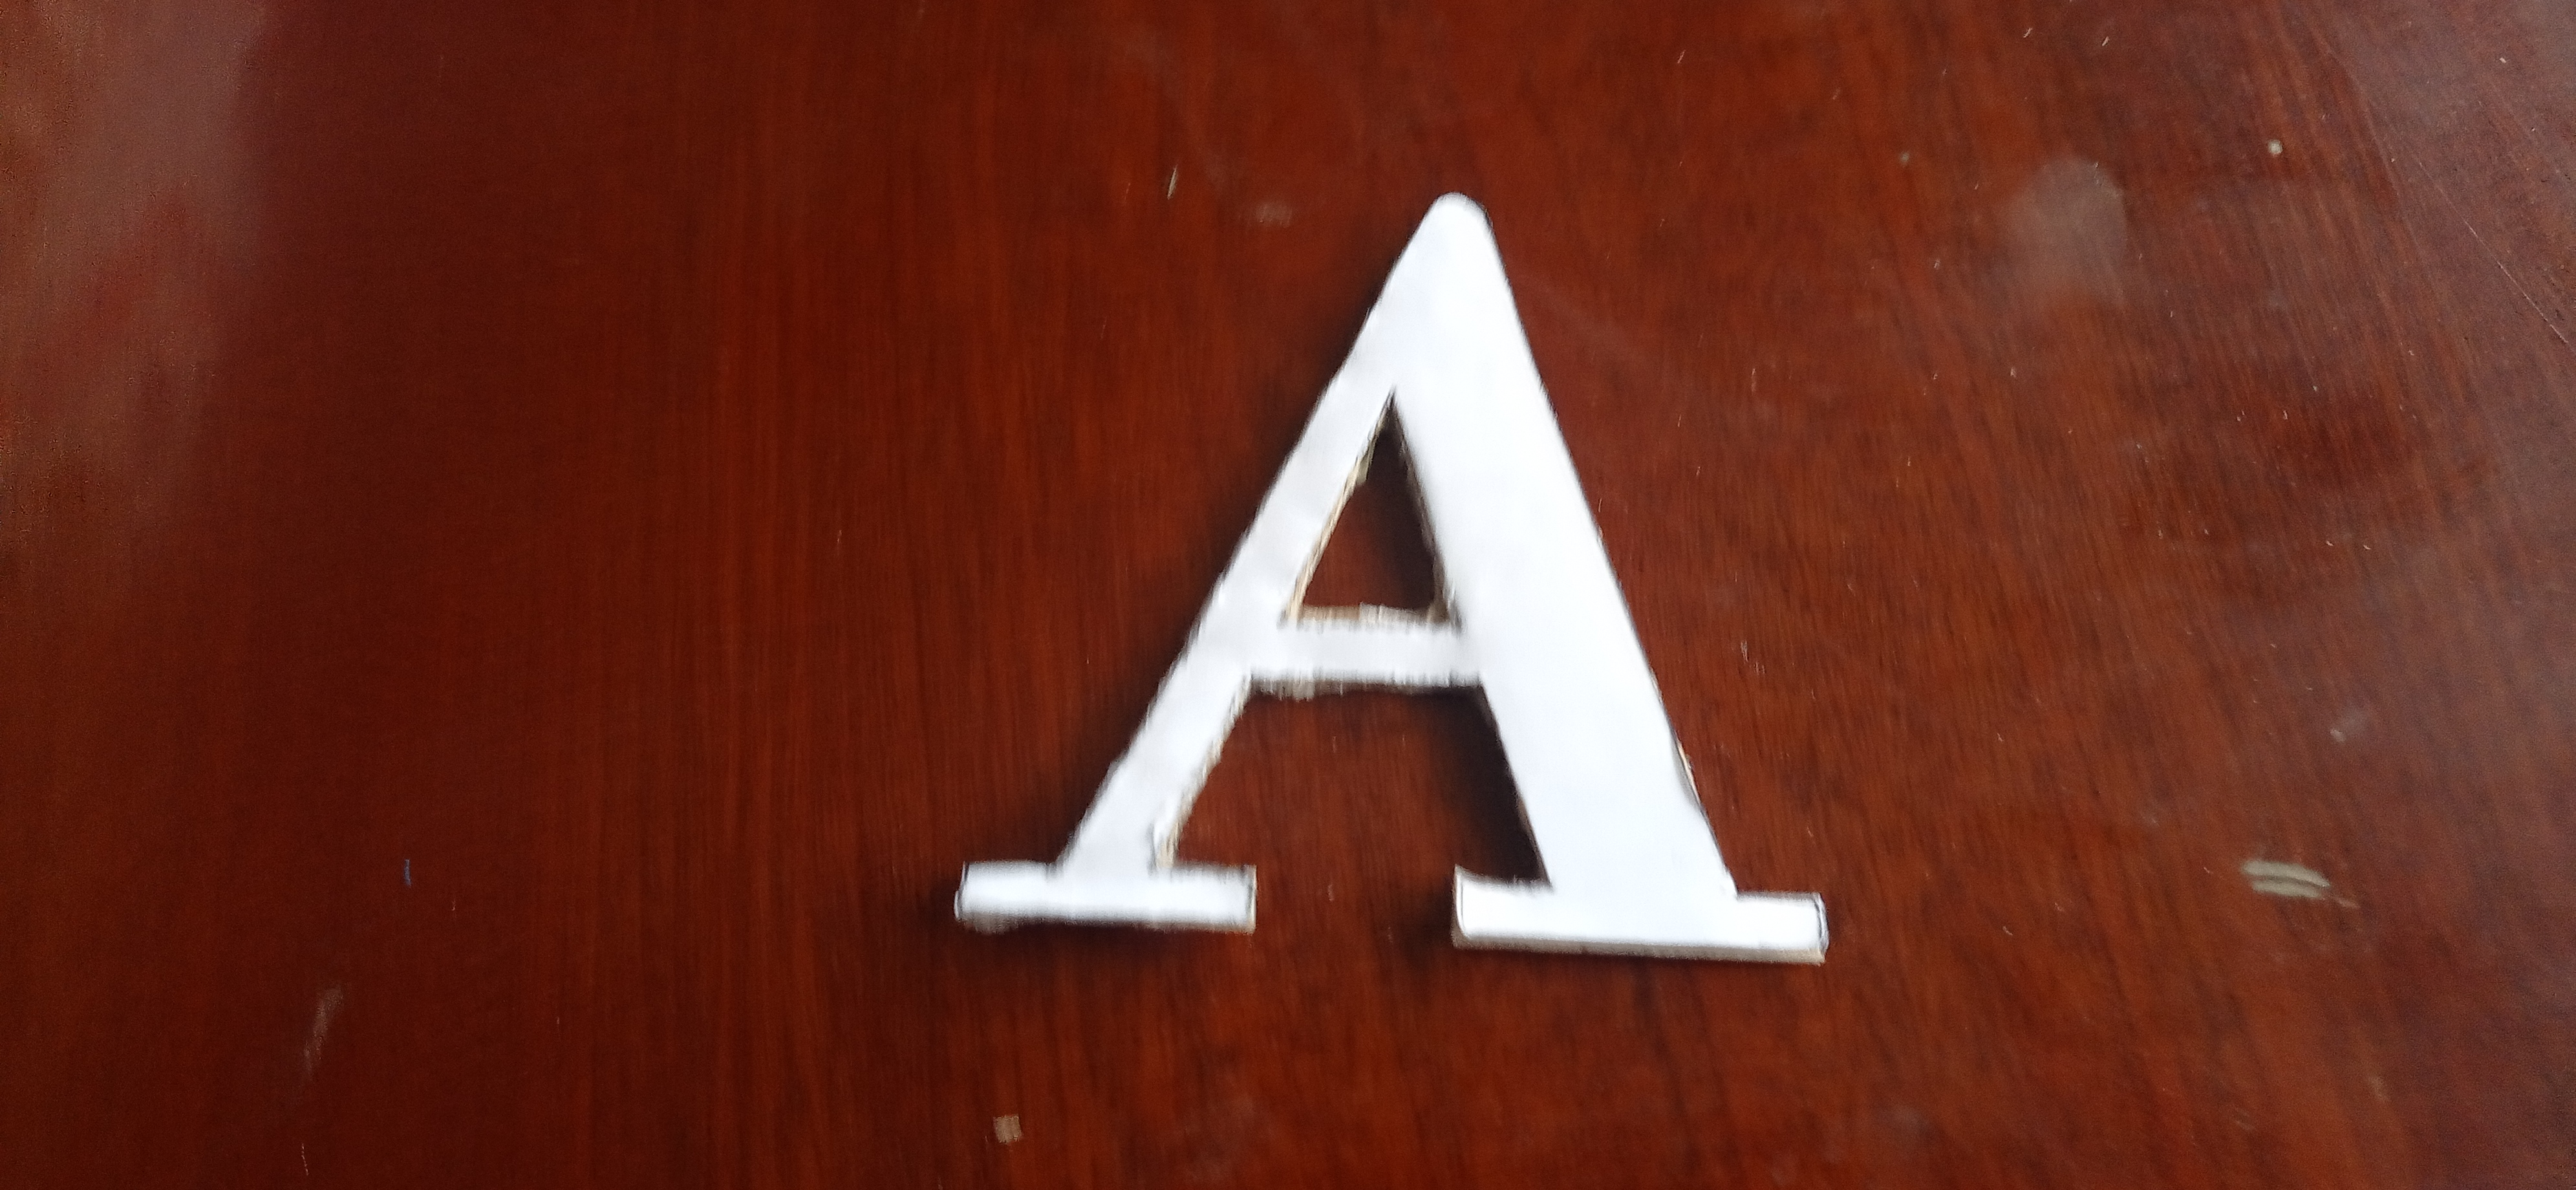a: (930, 197, 1838, 966)
